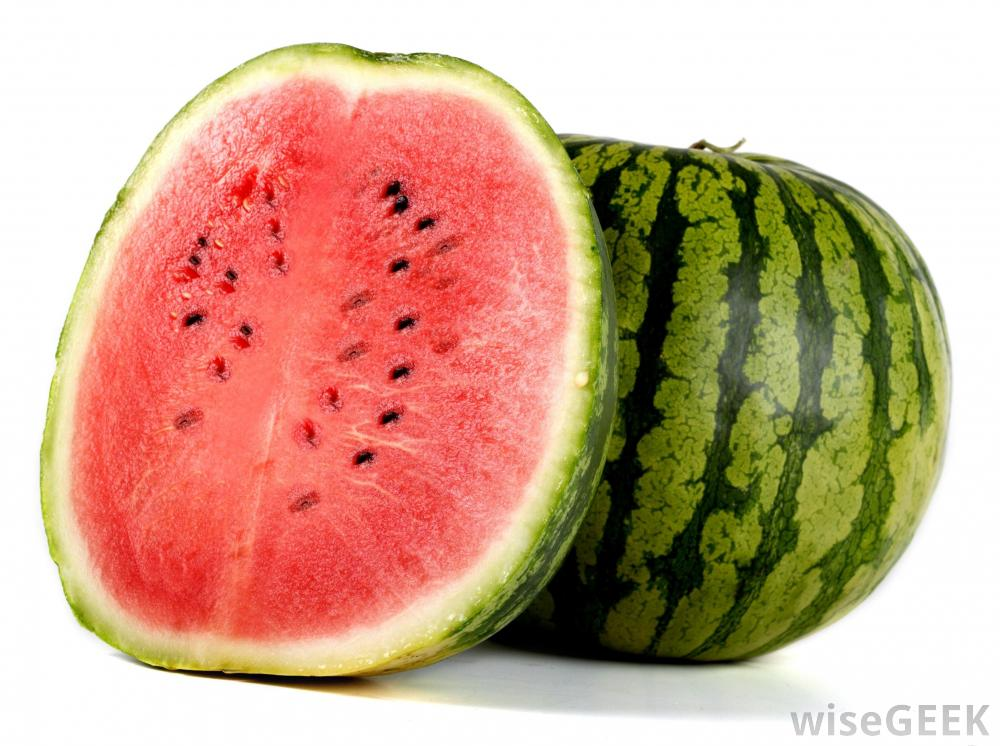watermelon: (69, 44, 593, 705), (546, 99, 969, 728)
